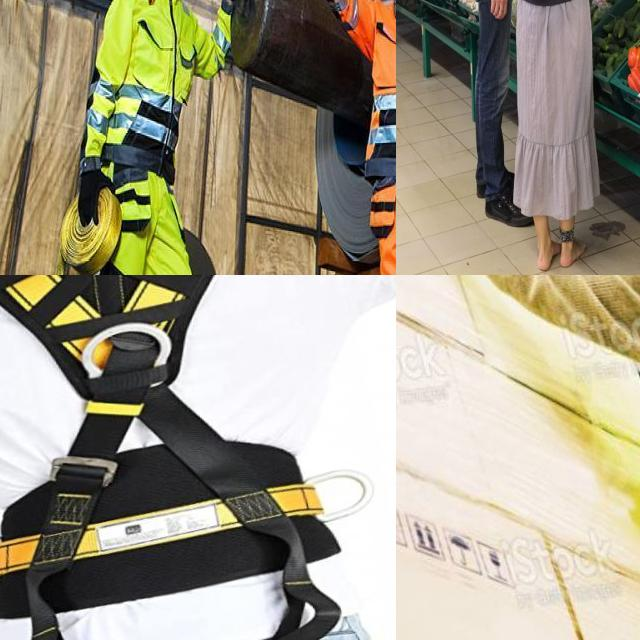Barefoots: (560, 238, 586, 268), (538, 240, 563, 270)
Harness: (0, 275, 342, 640)
hand_glove: (78, 167, 112, 225)
